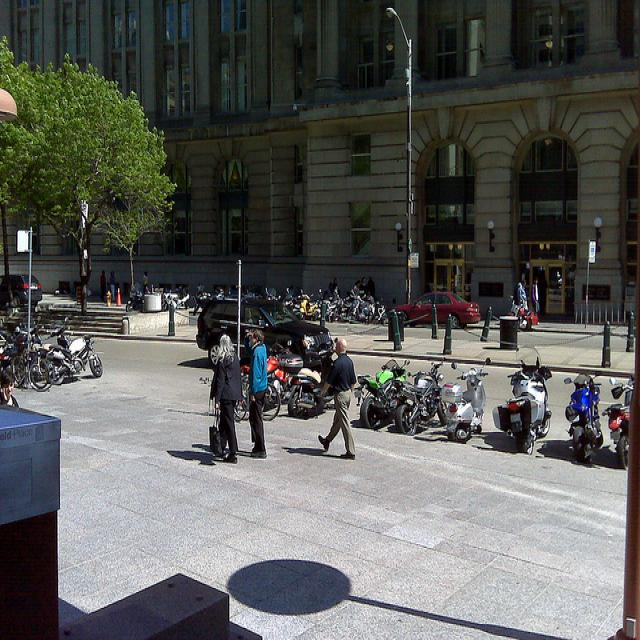motor: (490, 343, 556, 459), (282, 335, 338, 420), (390, 358, 449, 436), (442, 358, 493, 443), (358, 358, 411, 429), (565, 370, 603, 468), (45, 332, 104, 385), (602, 378, 635, 471), (266, 339, 305, 402), (346, 281, 364, 323), (508, 296, 530, 318), (519, 314, 533, 330)
